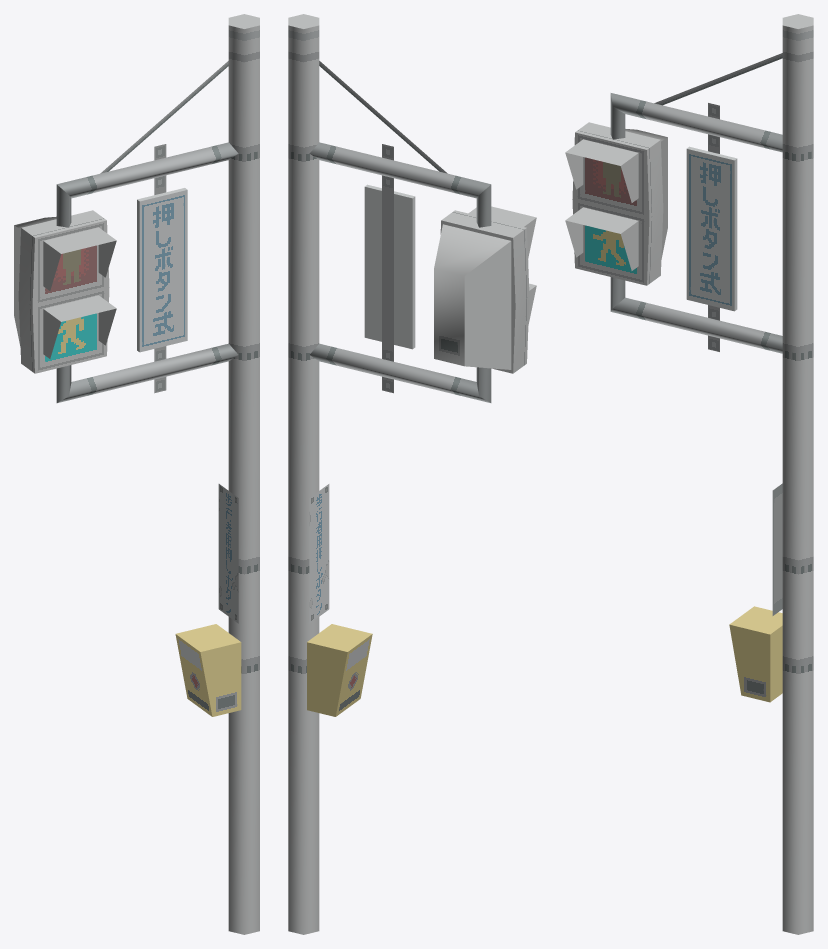
Rendered from 03a2_Pedestrian_Signal.glb.
3 renders of one model, left to right at view 1: azimuth 30°, elevation 25°; view 2: azimuth 150°, elevation 25°; view 3: azimuth 330°, elevation 25°, orthographic.
Parts seen in each view (by area): view 1: part_0, part_2, part_1; view 2: part_0; view 3: part_0, part_2, part_1.
Boxes of the visible parts, <box> form: part_0: <box>14,14,259,934</box>; part_2: <box>32,220,109,306</box>; part_1: <box>32,287,109,373</box>; part_0: <box>288,14,536,934</box>; part_0: <box>565,14,813,934</box>; part_2: <box>572,132,649,218</box>; part_1: <box>572,199,649,285</box>.
Bounding box in the file's own units: 0.9749 × 3.6 × 0.43.
3 materials, 3 textured.
